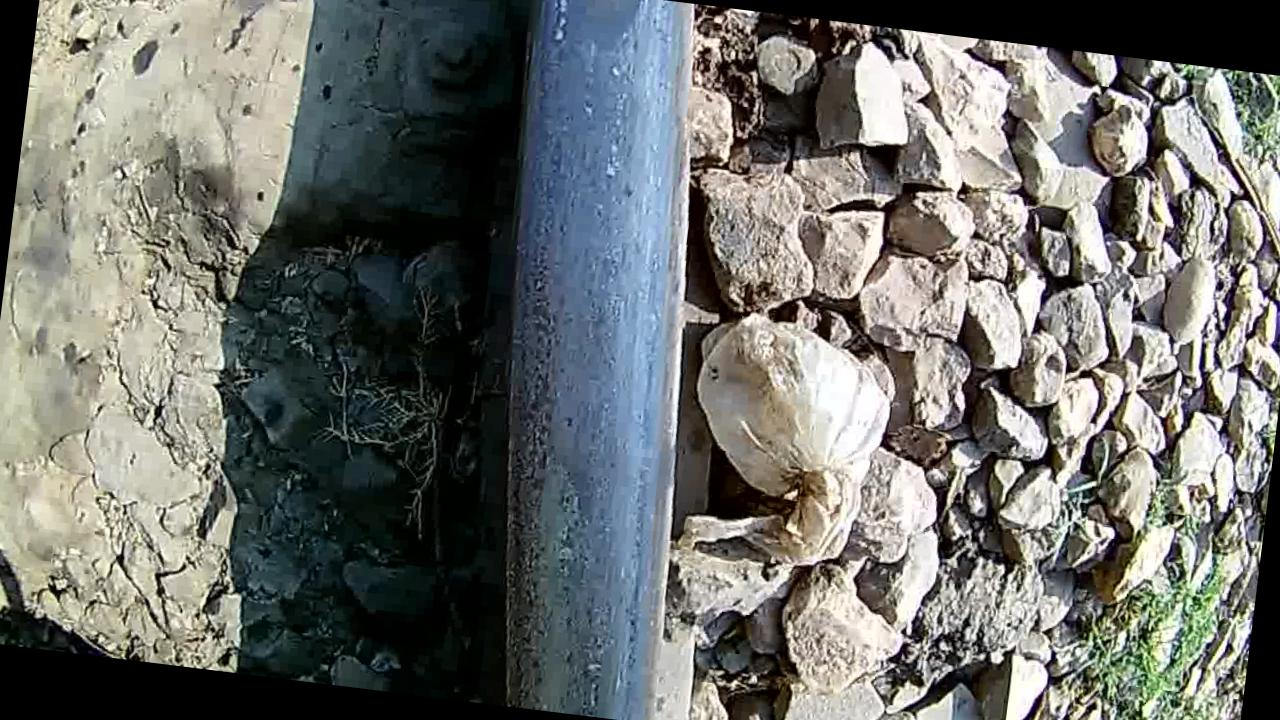bolt_missing: (460, 0, 714, 715)
